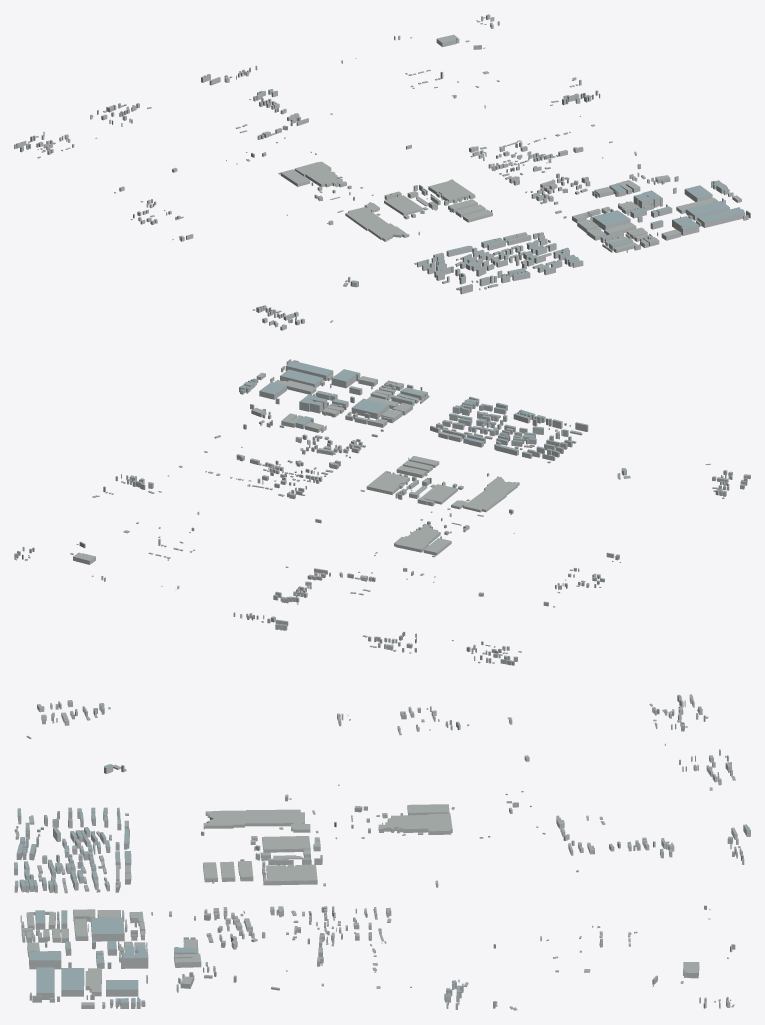
The model's file is far.glb.
3 views of the same model, one above another, from view 1: azimuth 30°, elevation 25°; view 2: azimuth 150°, elevation 25°; view 3: azimuth 270°, elevation 25° (orthographic). The views are drawn at different scales.
Size of the model in its own units: 2103 by 33.27 by 2105.
